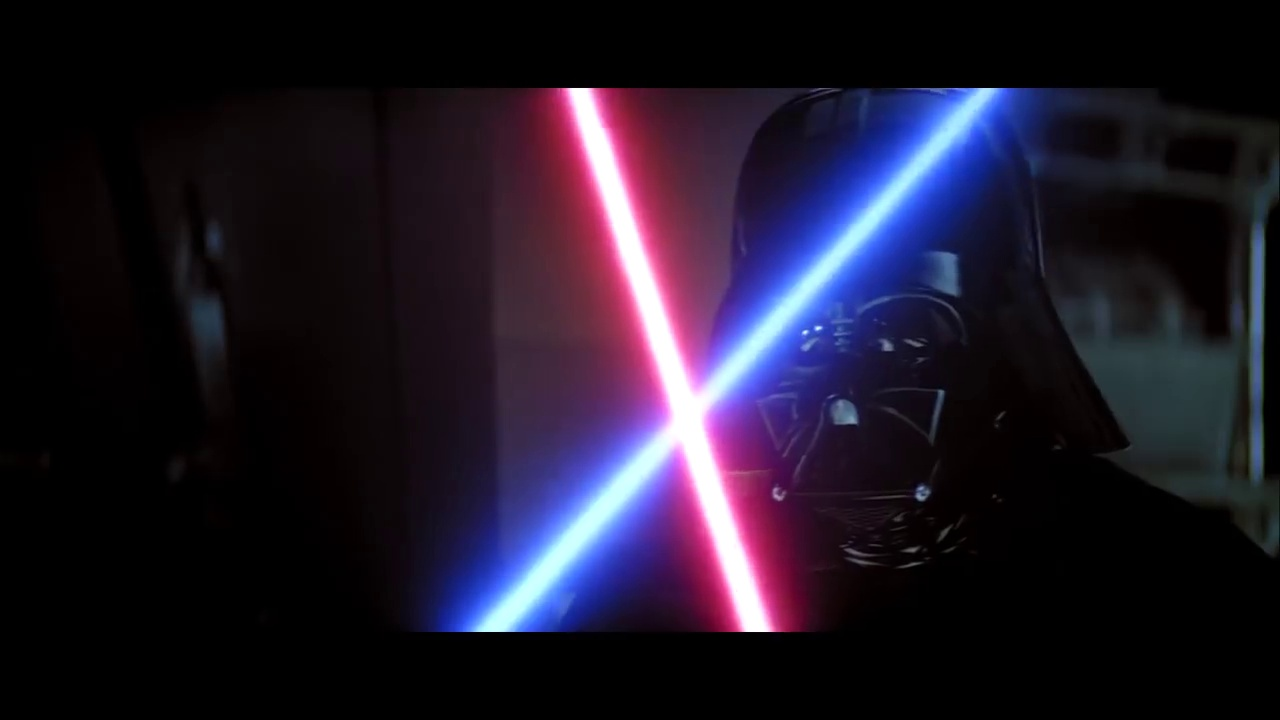lightsaber: (454, 84, 1032, 640)
